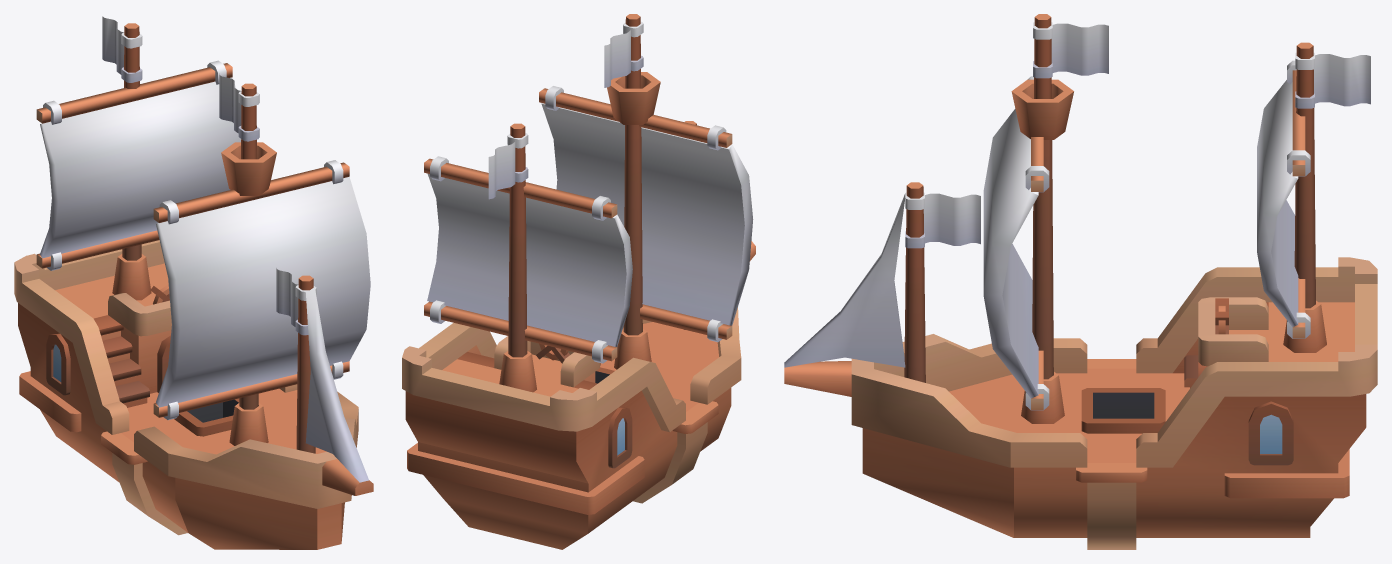
File: kenney-pirate-ship-medium.glb
The picture shows the model from 3 angles, left to right: view 1: azimuth 30°, elevation 25°; view 2: azimuth 150°, elevation 25°; view 3: azimuth 270°, elevation 25°; orthographic projection. The views are drawn at different scales.
Parts seen in each view (by area): view 1: ship-medium; view 2: ship-medium; view 3: ship-medium.
Boxes of the visible parts, x1,y1,x2,y2 form: ship-medium: [14, 16, 373, 549]; ship-medium: [402, 14, 755, 549]; ship-medium: [784, 14, 1377, 549].
Size of the model in its own units: 4.8 by 9.96 by 10.6.
Materials: 1 (1 with a texture image).
